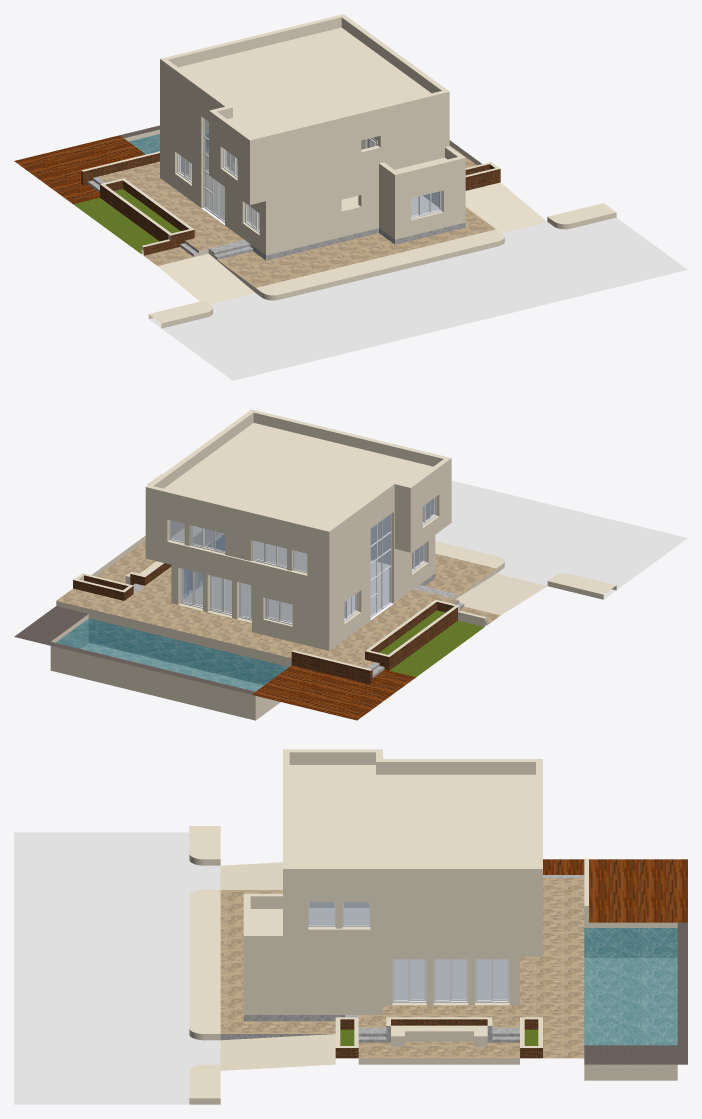
3 renders of one model, top to bottom at view 1: azimuth 30°, elevation 25°; view 2: azimuth 150°, elevation 25°; view 3: azimuth 270°, elevation 25°, orthographic. The views are drawn at different scales.
Parts seen in each view (by area): view 1: 16000, 15156, 17554, 16919, 19430, 16010, 19188, 21423, 16896, 16897, 21243; view 2: 15156, 17554, 19430, 16000, 16919, 15985, 21423, Component#1 (×2), Component#3 (×2), 16897, 16010, Component#2; view 3: 15156, 16000, 17554, 19430, 16919, 15985, 16010, Component#1 (×3), 19188, 16896, 16897, 20399 (+1 smaller).
Part boxes in pixels (x1,y1,x2,y2): 16000: (149, 217, 687, 380); 15156: (14, 125, 546, 303); 17554: (160, 14, 449, 204); 16919: (160, 120, 465, 255); 19430: (178, 27, 431, 136); 16010: (255, 229, 504, 300); 19188: (379, 146, 465, 185); 21423: (203, 118, 224, 222); 16896: (547, 203, 616, 229); 16897: (148, 300, 212, 328); 21243: (411, 191, 442, 218); 15156: (14, 535, 547, 720); 17554: (145, 409, 451, 596); 19430: (164, 423, 432, 528); 16000: (435, 480, 687, 599); 16919: (171, 515, 435, 650); 15985: (55, 618, 288, 691); 21423: (370, 513, 391, 617); Component#1 (×2): (180, 568, 231, 615); Component#3 (×2): (190, 525, 286, 568); 16897: (547, 573, 616, 599); 16010: (435, 541, 504, 572); Component#2: (265, 598, 292, 625); 15156: (220, 858, 687, 1080); 16000: (14, 832, 220, 1104); 17554: (283, 749, 542, 956); 19430: (289, 765, 535, 865); 16919: (243, 902, 519, 1014); 15985: (584, 928, 677, 1045); 16010: (189, 890, 220, 1040); Component#1 (×3): (392, 959, 509, 1002); 19188: (243, 893, 282, 948); 16896: (189, 1064, 220, 1104); 16897: (189, 826, 220, 865); 20399: (342, 902, 370, 926).
Bounding box in the file's own units: 28 × 9 × 29.28.
Materials: 781 (91 with a texture image).
